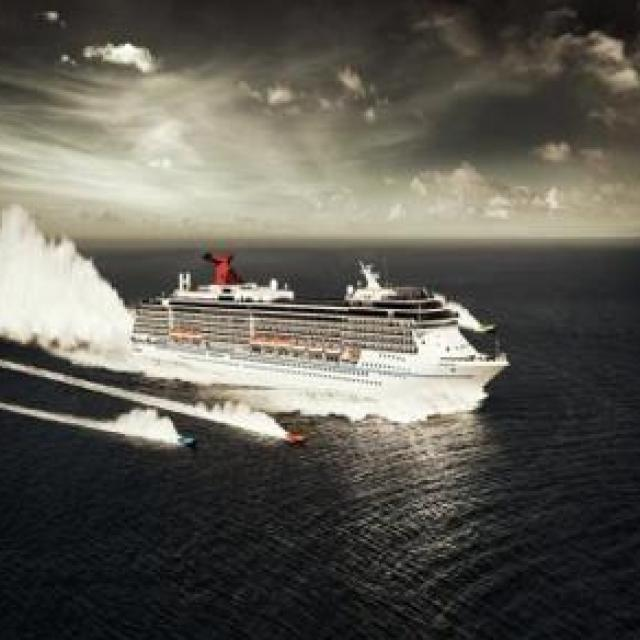houseboat: (284, 422, 312, 449), (480, 314, 502, 336), (174, 430, 199, 447)
passenger ship: (130, 271, 508, 397)
